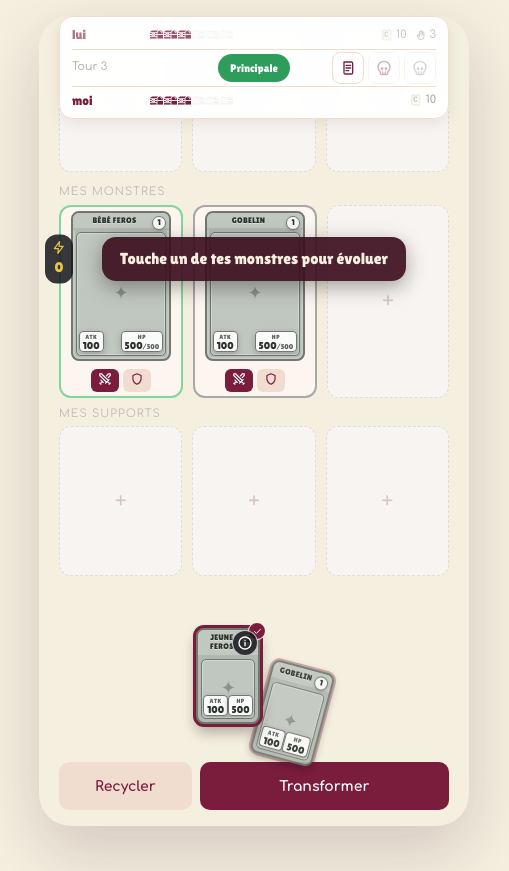
Test case: FightBoard — évolution › coût restant sans carte recyclée : message d'énergie manquante, rien d'envoyé
(page scrolled)
Click the element with class "zr-zone" that starts with "Bébé Feros" at (121, 301), box [59,204,183,398]
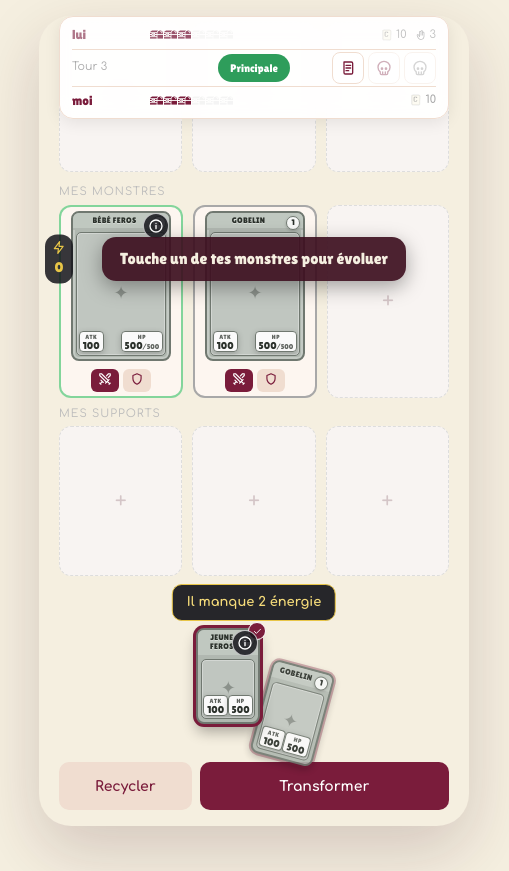
Expected: the text "Il manque 2 énergie" is shown, [172,584,336,621]
